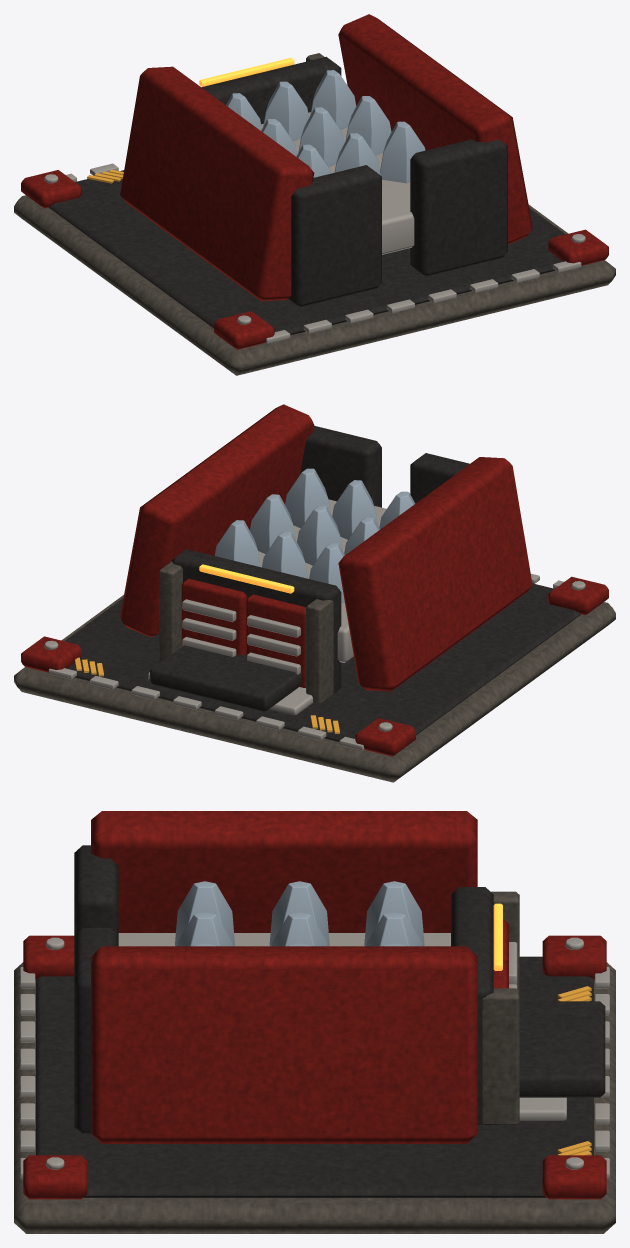
File: kharn_soute_a_minerai.gltf
3 renders of one model, top to bottom at view 1: azimuth 30°, elevation 25°; view 2: azimuth 150°, elevation 25°; view 3: azimuth 270°, elevation 25°, orthographic. The views are drawn at different scales.
Parts seen in each view (by area): view 1: Root.008_Geometry; view 2: Root.008_Geometry, Door_R.003_Geometry, Door_L.003_Geometry; view 3: Root.008_Geometry, Door_L.003_Geometry.
Boxes of the visible parts, <box> form: Root.008_Geometry: <box>14,14,615,375</box>; Root.008_Geometry: <box>14,404,615,782</box>; Door_R.003_Geometry: <box>181,578,247,656</box>; Door_L.003_Geometry: <box>246,594,305,687</box>; Root.008_Geometry: <box>14,811,615,1233</box>; Door_L.003_Geometry: <box>503,919,517,985</box>.
Bounding box in the file's own units: 3.94 × 1.65 × 3.94.
7 materials, 3 textured.
